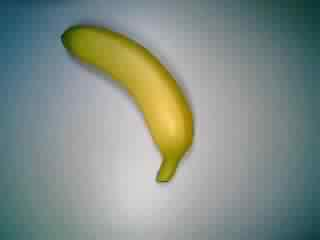banana: (59, 20, 199, 184)
